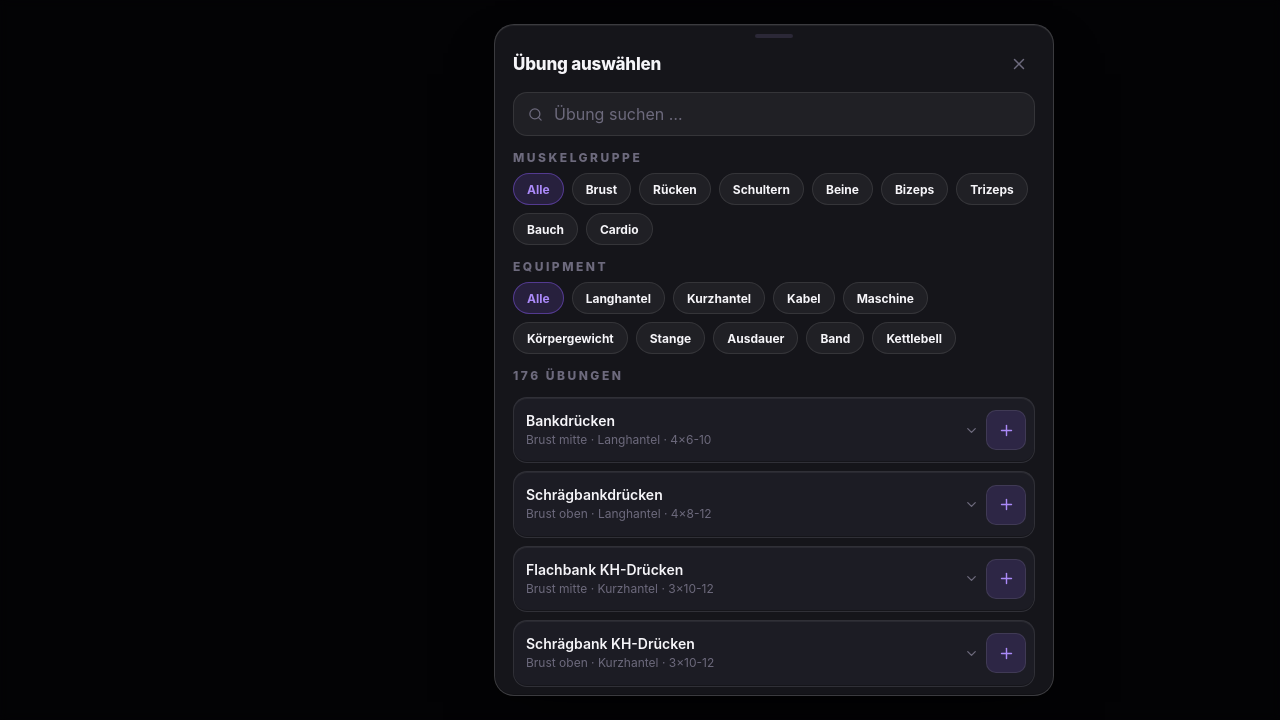
Test case: ExercisePickerSheet renders and works › filters by equipment
Click the button "Band".
click(835, 338)  # box [806,322,864,354]
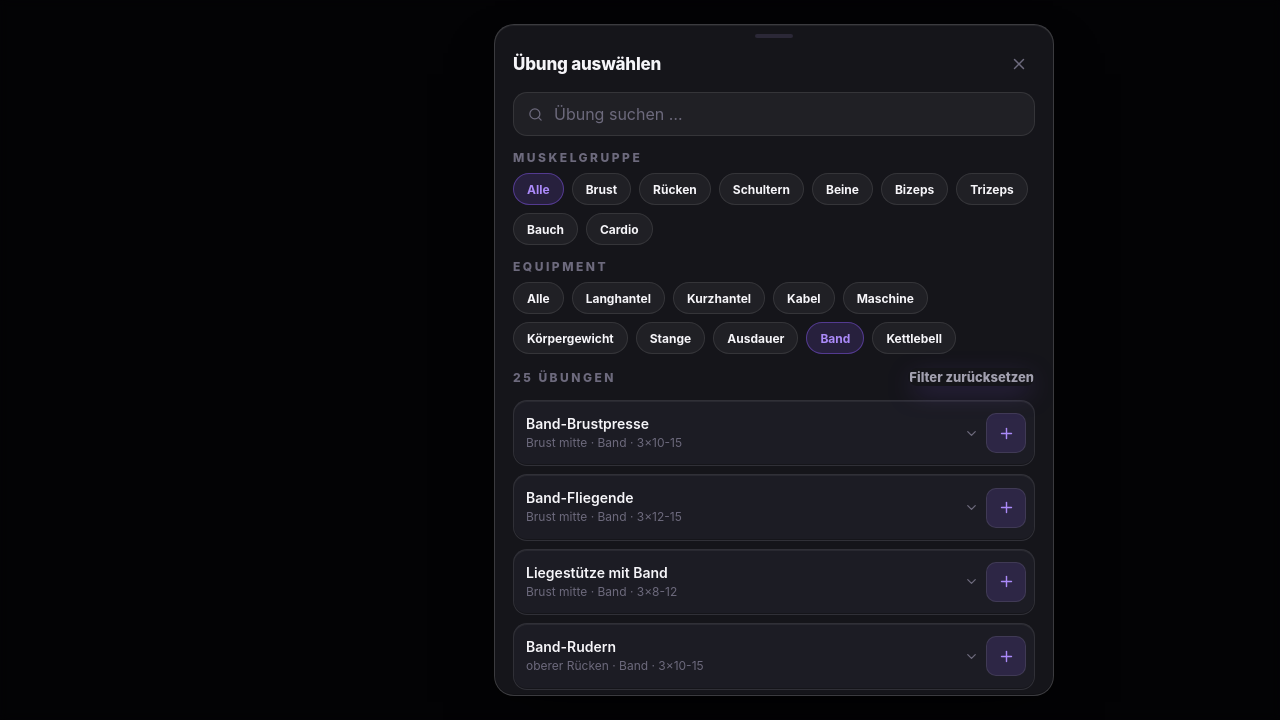
Check: the button "Bankdrücken" is gone
Check: the text "Band-Rudern" is shown, box [526,638,616,655]
